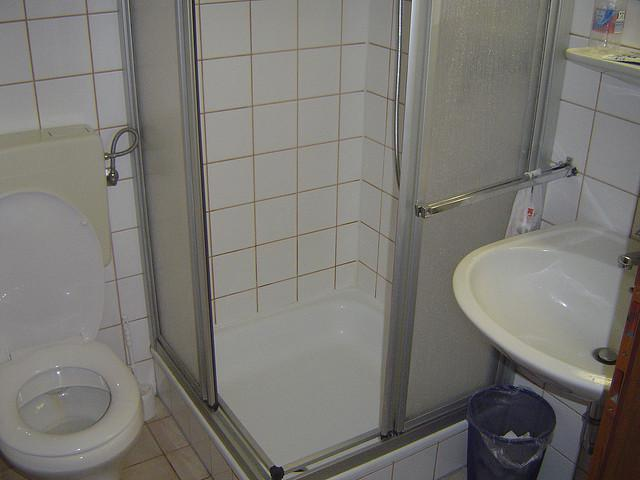Bote de Basura: (457, 384, 553, 479)
Ducha: (127, 0, 514, 479)
Lavamanos: (457, 221, 639, 421)
Sanitario: (0, 141, 146, 479)
